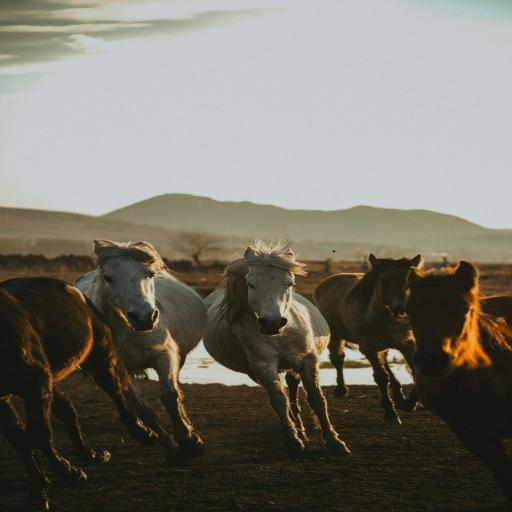horse: (0, 260, 165, 511), (71, 238, 213, 461), (218, 232, 357, 458), (401, 260, 512, 490), (315, 246, 432, 434)
